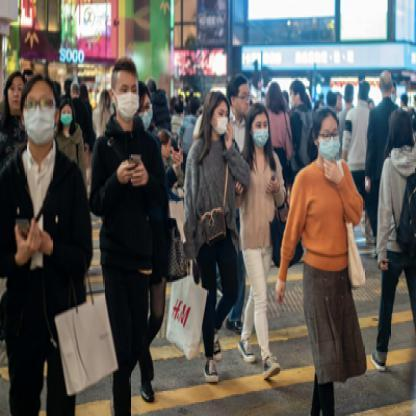without_mask: (8, 81, 24, 112), (235, 86, 251, 117), (161, 137, 173, 157)
